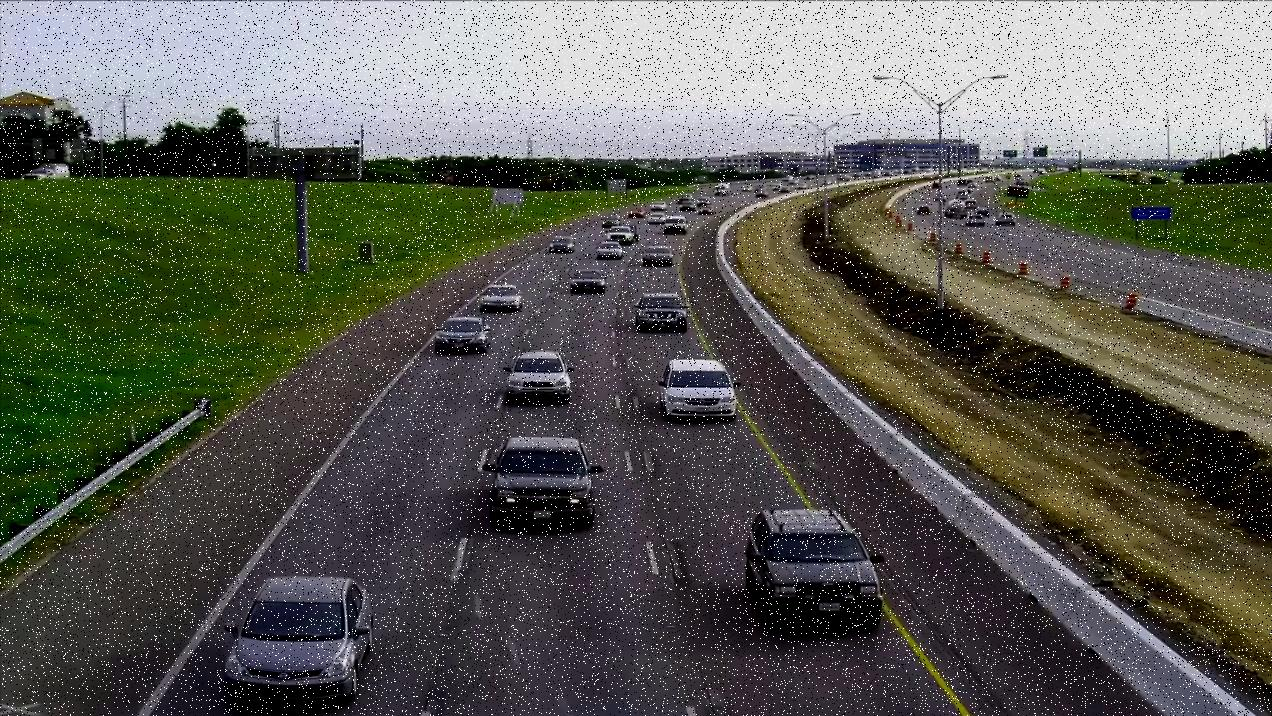car: (222, 572, 378, 706), (748, 502, 886, 628), (480, 437, 605, 531), (657, 359, 739, 421), (502, 349, 574, 402), (435, 321, 491, 354), (634, 299, 690, 331), (477, 285, 522, 313), (570, 269, 608, 293), (20, 166, 70, 181), (643, 246, 676, 267), (595, 245, 623, 261), (661, 219, 686, 235), (547, 239, 571, 255), (995, 213, 1018, 227), (696, 203, 713, 215)
